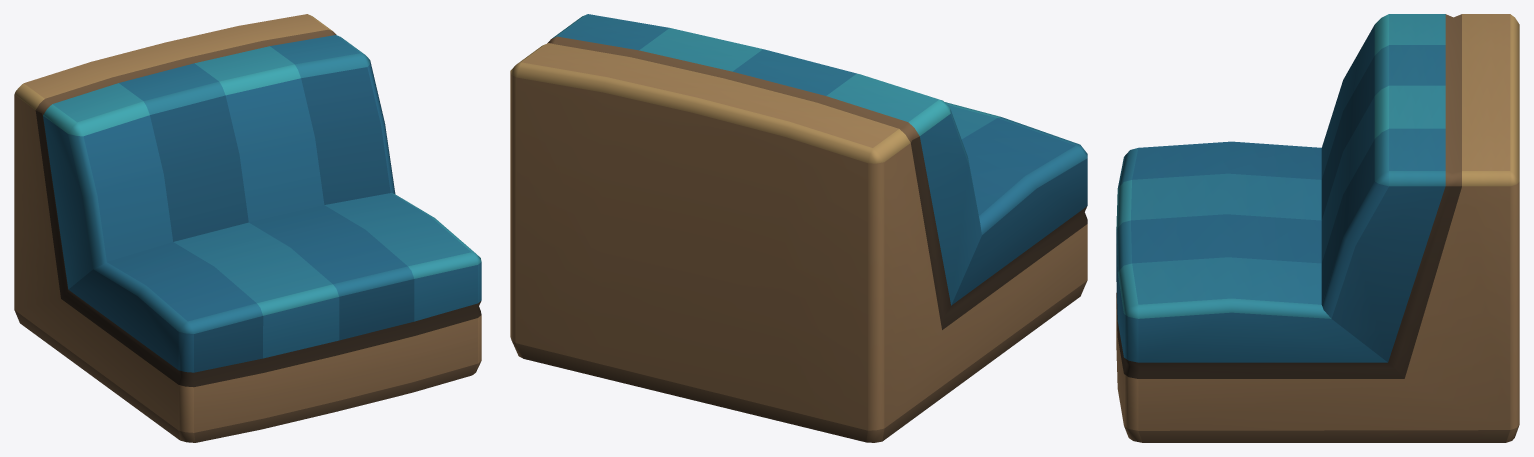
Rendered from seating_outdoor1_2_LOD_setup.fbx.
3 renders of one model, left to right at view 1: azimuth 30°, elevation 25°; view 2: azimuth 150°, elevation 25°; view 3: azimuth 270°, elevation 25°, orthographic. The views are drawn at different scales.
Parts seen in each view (by area): view 1: seating_outdoor1_2_LOD0; view 2: seating_outdoor1_2_LOD0; view 3: seating_outdoor1_2_LOD0.
Boxes of the visible parts, x1,y1,x2,y2 form: seating_outdoor1_2_LOD0: (14, 14, 481, 442); seating_outdoor1_2_LOD0: (510, 14, 1087, 442); seating_outdoor1_2_LOD0: (1116, 14, 1519, 442).
Size of what is drawn, in the model's own units: 100 by 76.95 by 102.
